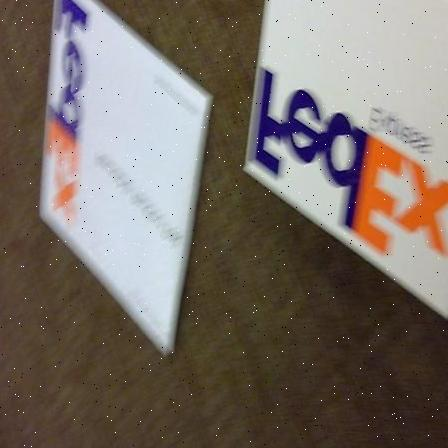Amazon: (236, 0, 448, 308), (31, 0, 209, 329)
